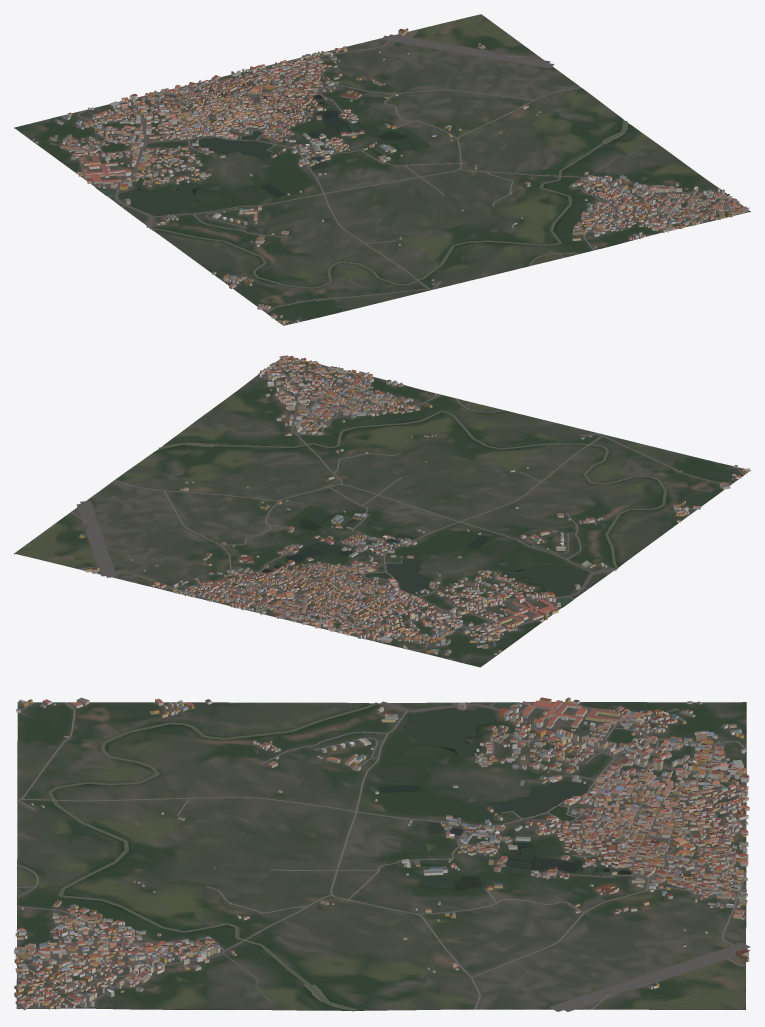
3 views of the same model, one above another, from view 1: azimuth 30°, elevation 25°; view 2: azimuth 150°, elevation 25°; view 3: azimuth 270°, elevation 25° (orthographic). The views are drawn at different scales.
Visible parts, largest first — view 1: ground, buildings, roads, water; view 2: ground, buildings, roads, water; view 3: ground, buildings, water, roads.
Part boxes in pixels (x1=…): ground: x1=14, y1=14, x2=750, y2=325; buildings: x1=32, y1=28, x2=749, y2=324; roads: x1=50, y1=30, x2=748, y2=322; water: x1=98, y1=95, x2=627, y2=288; ground: x1=14, y1=358, x2=750, y2=667; buildings: x1=79, y1=355, x2=749, y2=655; roads: x1=71, y1=361, x2=744, y2=650; water: x1=158, y1=410, x2=666, y2=605; ground: x1=16, y1=702, x2=746, y2=1010; buildings: x1=14, y1=697, x2=749, y2=1010; water: x1=47, y1=702, x2=631, y2=1011; roads: x1=16, y1=701, x2=750, y2=1011.
Bounding box in the file's own units: 1420 × 24.24 × 1417.
